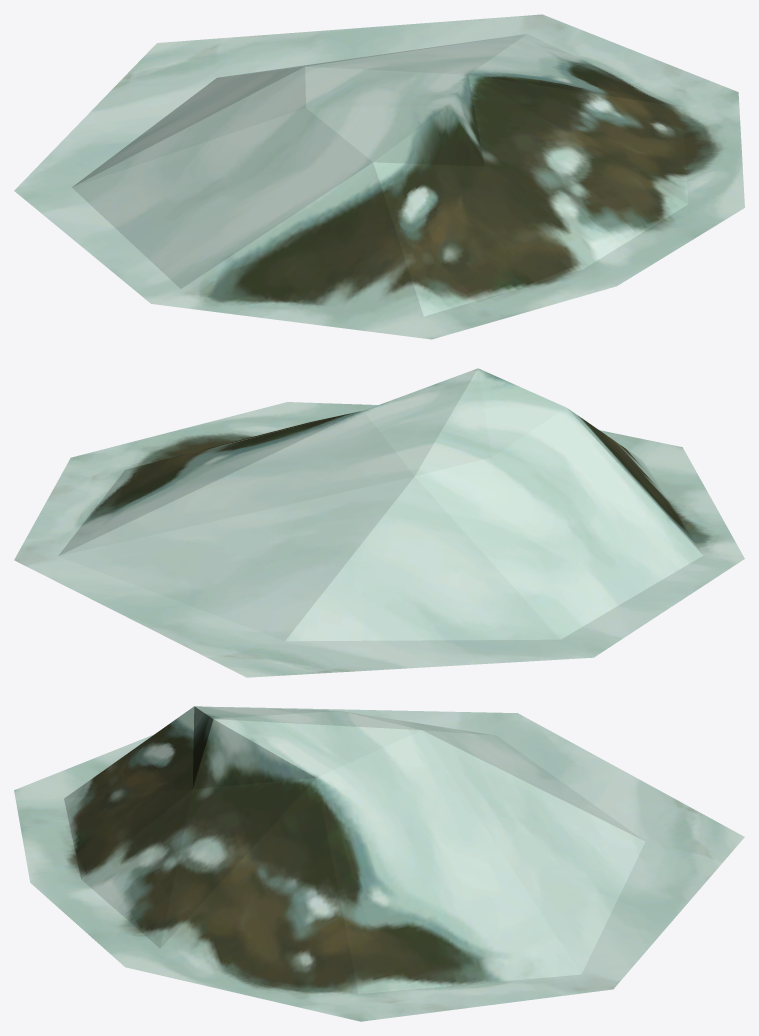
File: miniberm_01.fbx
3 renders of one model, top to bottom at view 1: azimuth 30°, elevation 25°; view 2: azimuth 150°, elevation 25°; view 3: azimuth 270°, elevation 25°, orthographic. The views are drawn at different scales.
Parts seen in each view (by area): view 1: obj0.021; view 2: obj0.021; view 3: obj0.021.
Boxes of the visible parts, box(x1,y1,x2,y2) form: obj0.021: box(14, 14, 744, 339); obj0.021: box(14, 368, 744, 677); obj0.021: box(14, 706, 744, 1021).
Bounding box in the file's own units: 8.37 × 1.59 × 8.21.
